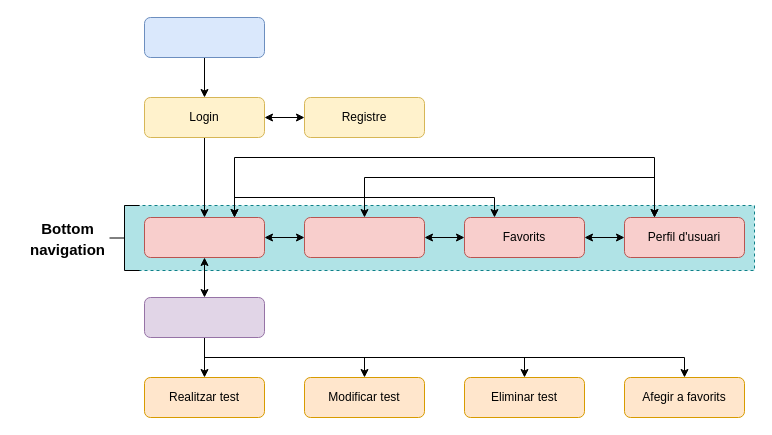
This 772x435 diagram has some shape labels left out. The centre of each missing label's shape, as x and y in pixels:
"Creació de test" belongs at point (364, 237).
"Llistat de tests" belongs at point (204, 237).
"Onboarding" belongs at point (204, 37).
"Visió global test" belongs at point (204, 317).
